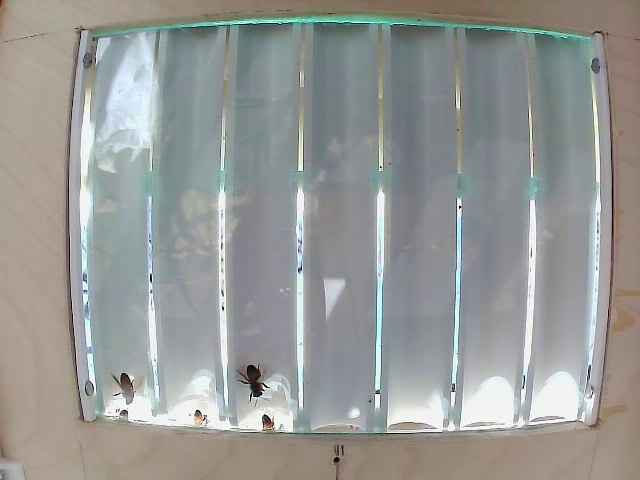bee: (221, 357, 281, 400)
